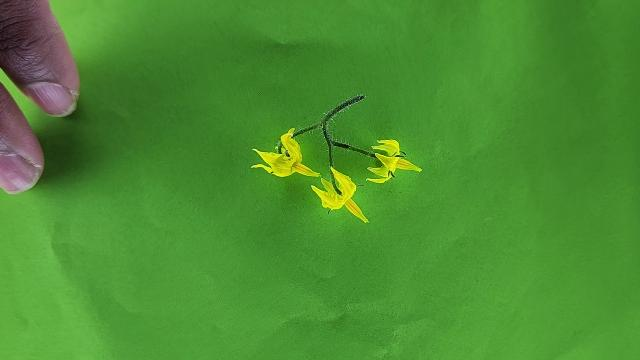Anthesis: (249, 128, 321, 178), (310, 164, 370, 224), (364, 139, 423, 184)
